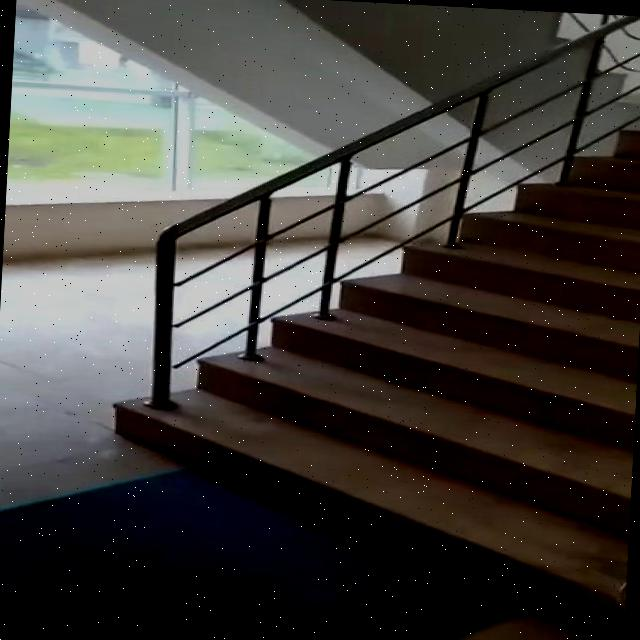stairs: (100, 96, 640, 640)
